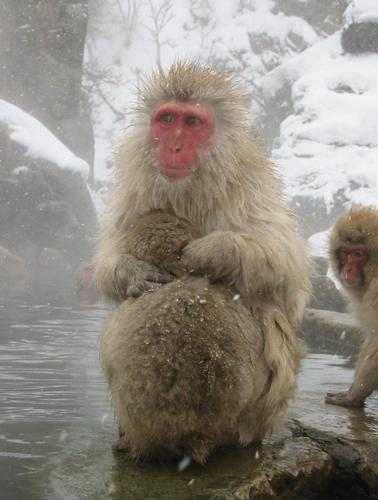monkey: (93, 59, 313, 469)
